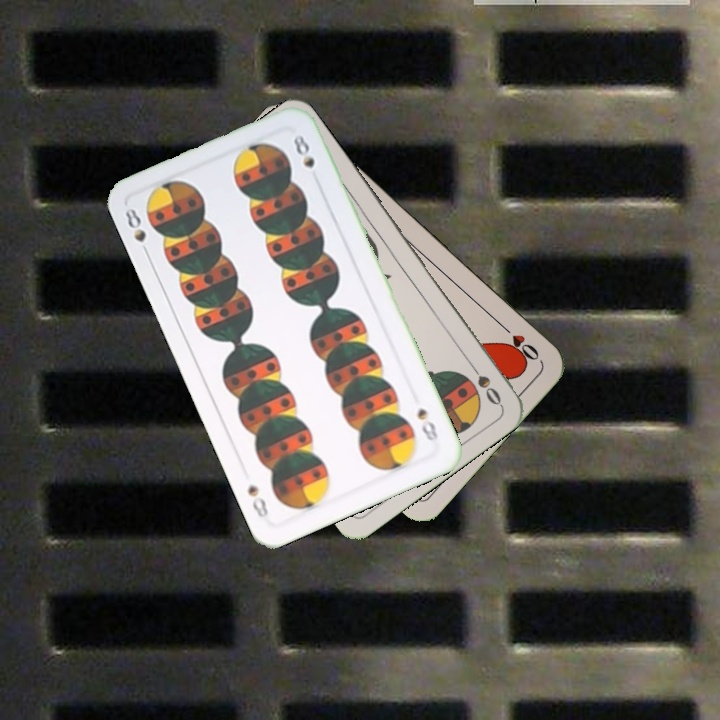HO: (495, 319, 542, 364)
S8: (121, 203, 152, 260), (413, 404, 441, 447)
SO: (463, 356, 504, 408)
